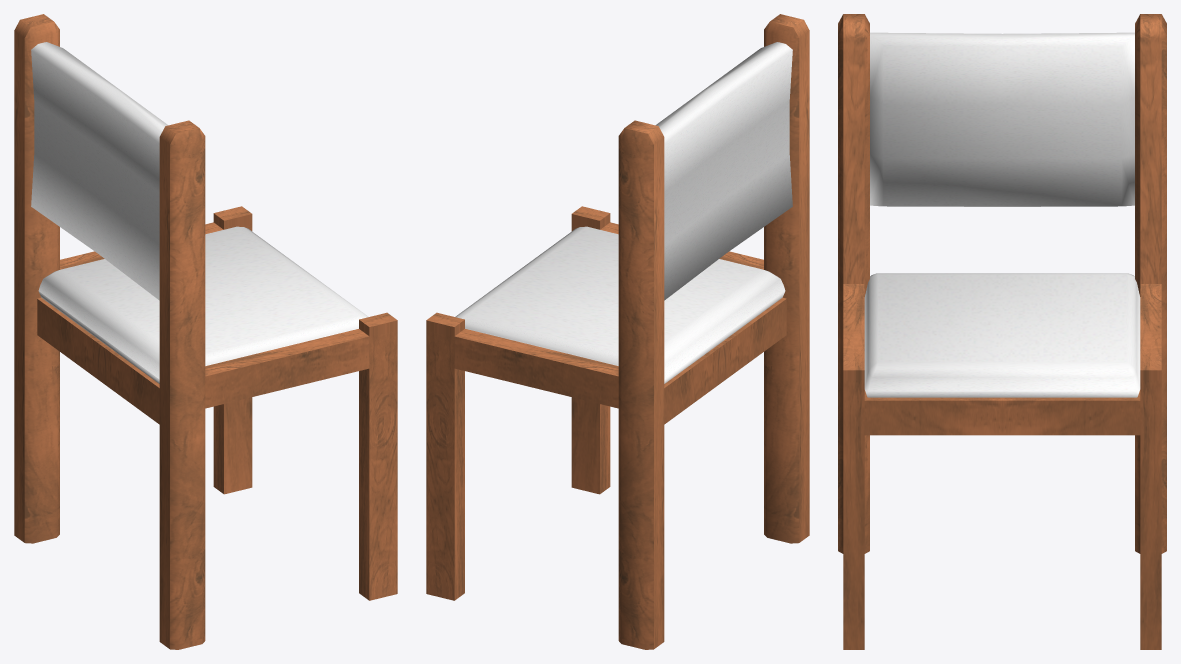
The model's file is Chair White.fbx.
The picture shows the model from 3 angles, left to right: view 1: azimuth 30°, elevation 25°; view 2: azimuth 150°, elevation 25°; view 3: azimuth 270°, elevation 25°; orthographic projection. The views are drawn at different scales.
Visible parts, largest first — view 1: Chair White; view 2: Chair White; view 3: Chair White.
Boxes of the visible parts, x1,y1,x2,y2 form: Chair White: (14,14,397,649); Chair White: (426,14,809,649); Chair White: (838,14,1166,649).
Size of the model in its own units: 29.08 by 62.78 by 35.62.
